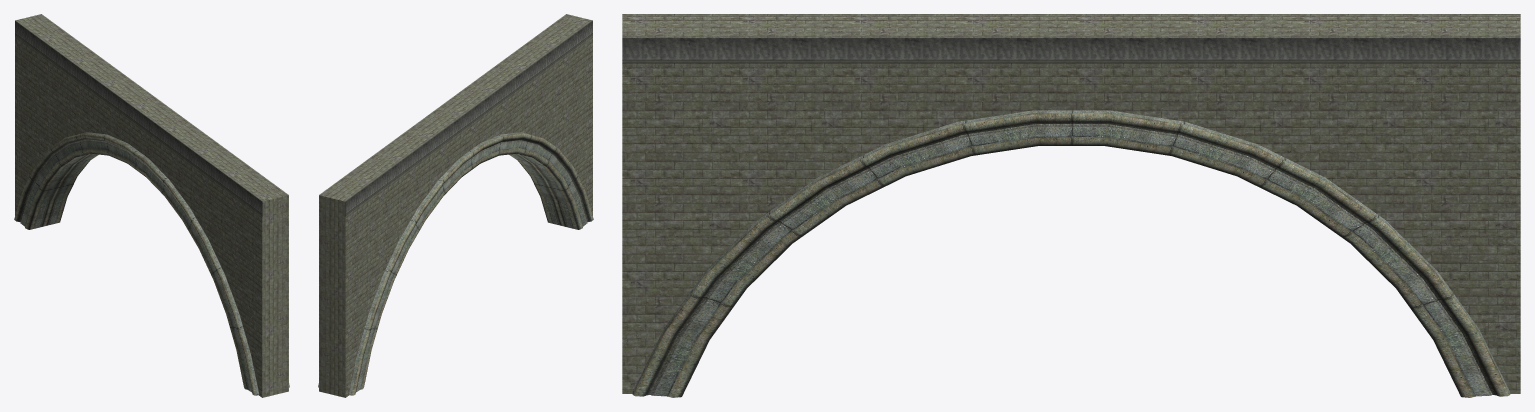
The model's file is HugeArch.fbx.
3 renders of one model, left to right at view 1: azimuth 30°, elevation 25°; view 2: azimuth 150°, elevation 25°; view 3: azimuth 270°, elevation 25°, orthographic. The views are drawn at different scales.
Parts seen in each view (by area): view 1: Mesh Object; view 2: Mesh Object; view 3: Mesh Object.
Boxes of the visible parts, box(x1,y1,x2,y2) form: Mesh Object: box(14, 14, 289, 397); Mesh Object: box(318, 14, 593, 397); Mesh Object: box(622, 14, 1520, 397).
Size of the model in its own units: 1.34 by 7.03 by 16.
